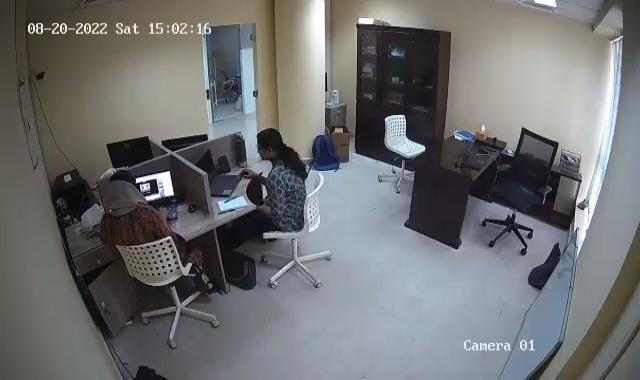no_hairnet: (104, 167, 140, 209), (255, 125, 286, 160)
